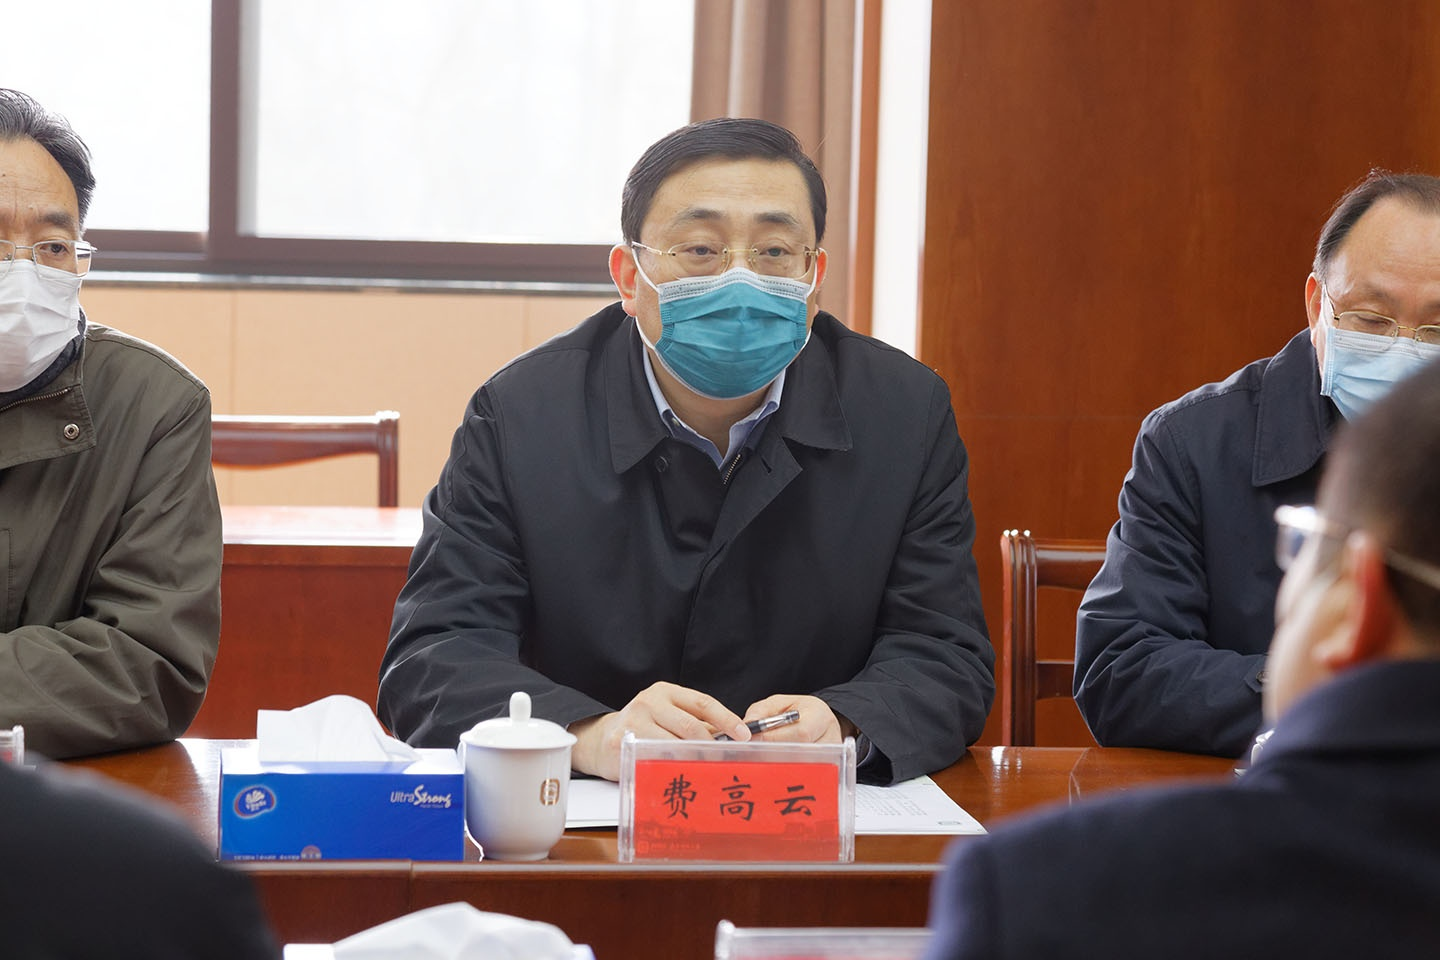correctlyWear: (607, 206, 828, 399), (1304, 229, 1440, 424), (1, 166, 97, 397)
